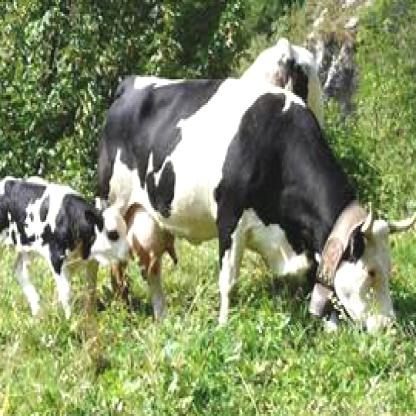cow: (94, 75, 414, 335), (0, 176, 131, 319)
